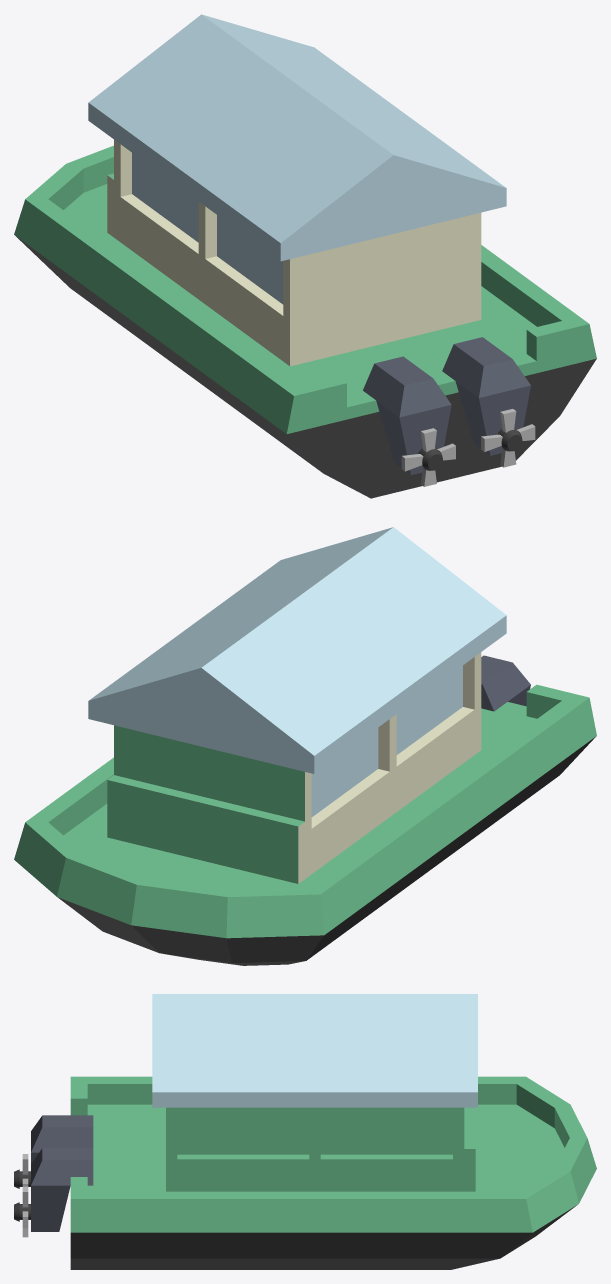
File: boat_001.fbx
3 renders of one model, top to bottom at view 1: azimuth 30°, elevation 25°; view 2: azimuth 150°, elevation 25°; view 3: azimuth 270°, elevation 25°, orthographic. The views are drawn at different scales.
Visible parts, largest first — view 1: boat_001, Group (×4); view 2: boat_001, Group; view 3: boat_001, Group (×2).
Part boxes in pixels (bbox=[...]): boat_001: bbox=[14, 14, 596, 498]; Group (×4): bbox=[363, 337, 535, 486]; boat_001: bbox=[14, 527, 596, 965]; Group: bbox=[481, 655, 530, 711]; boat_001: bbox=[70, 994, 596, 1269]; Group (×2): bbox=[14, 1115, 93, 1231].
Bounding box in the file's own units: 26.77 × 24 × 51.44.
